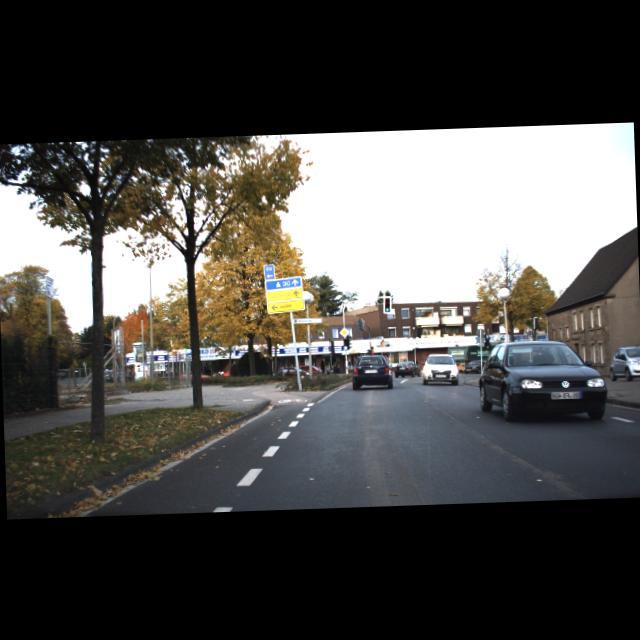other: (340, 326, 350, 336)
